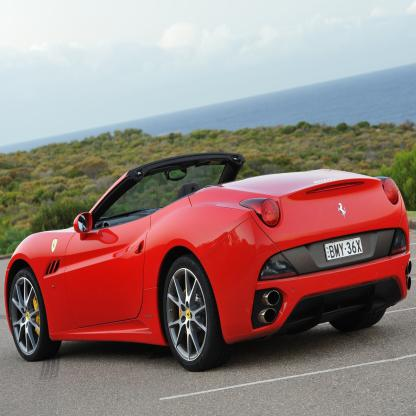Vehicle: (4, 150, 412, 372)
